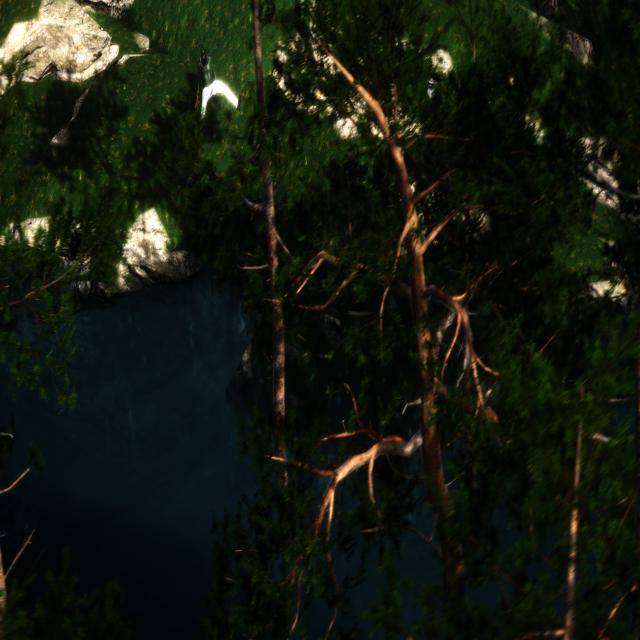Human: (190, 50, 243, 128)
